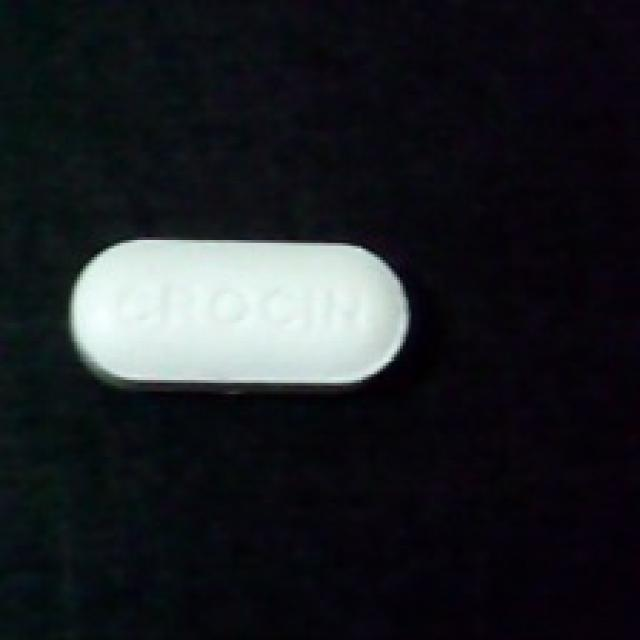no-defect: (63, 237, 411, 397)
